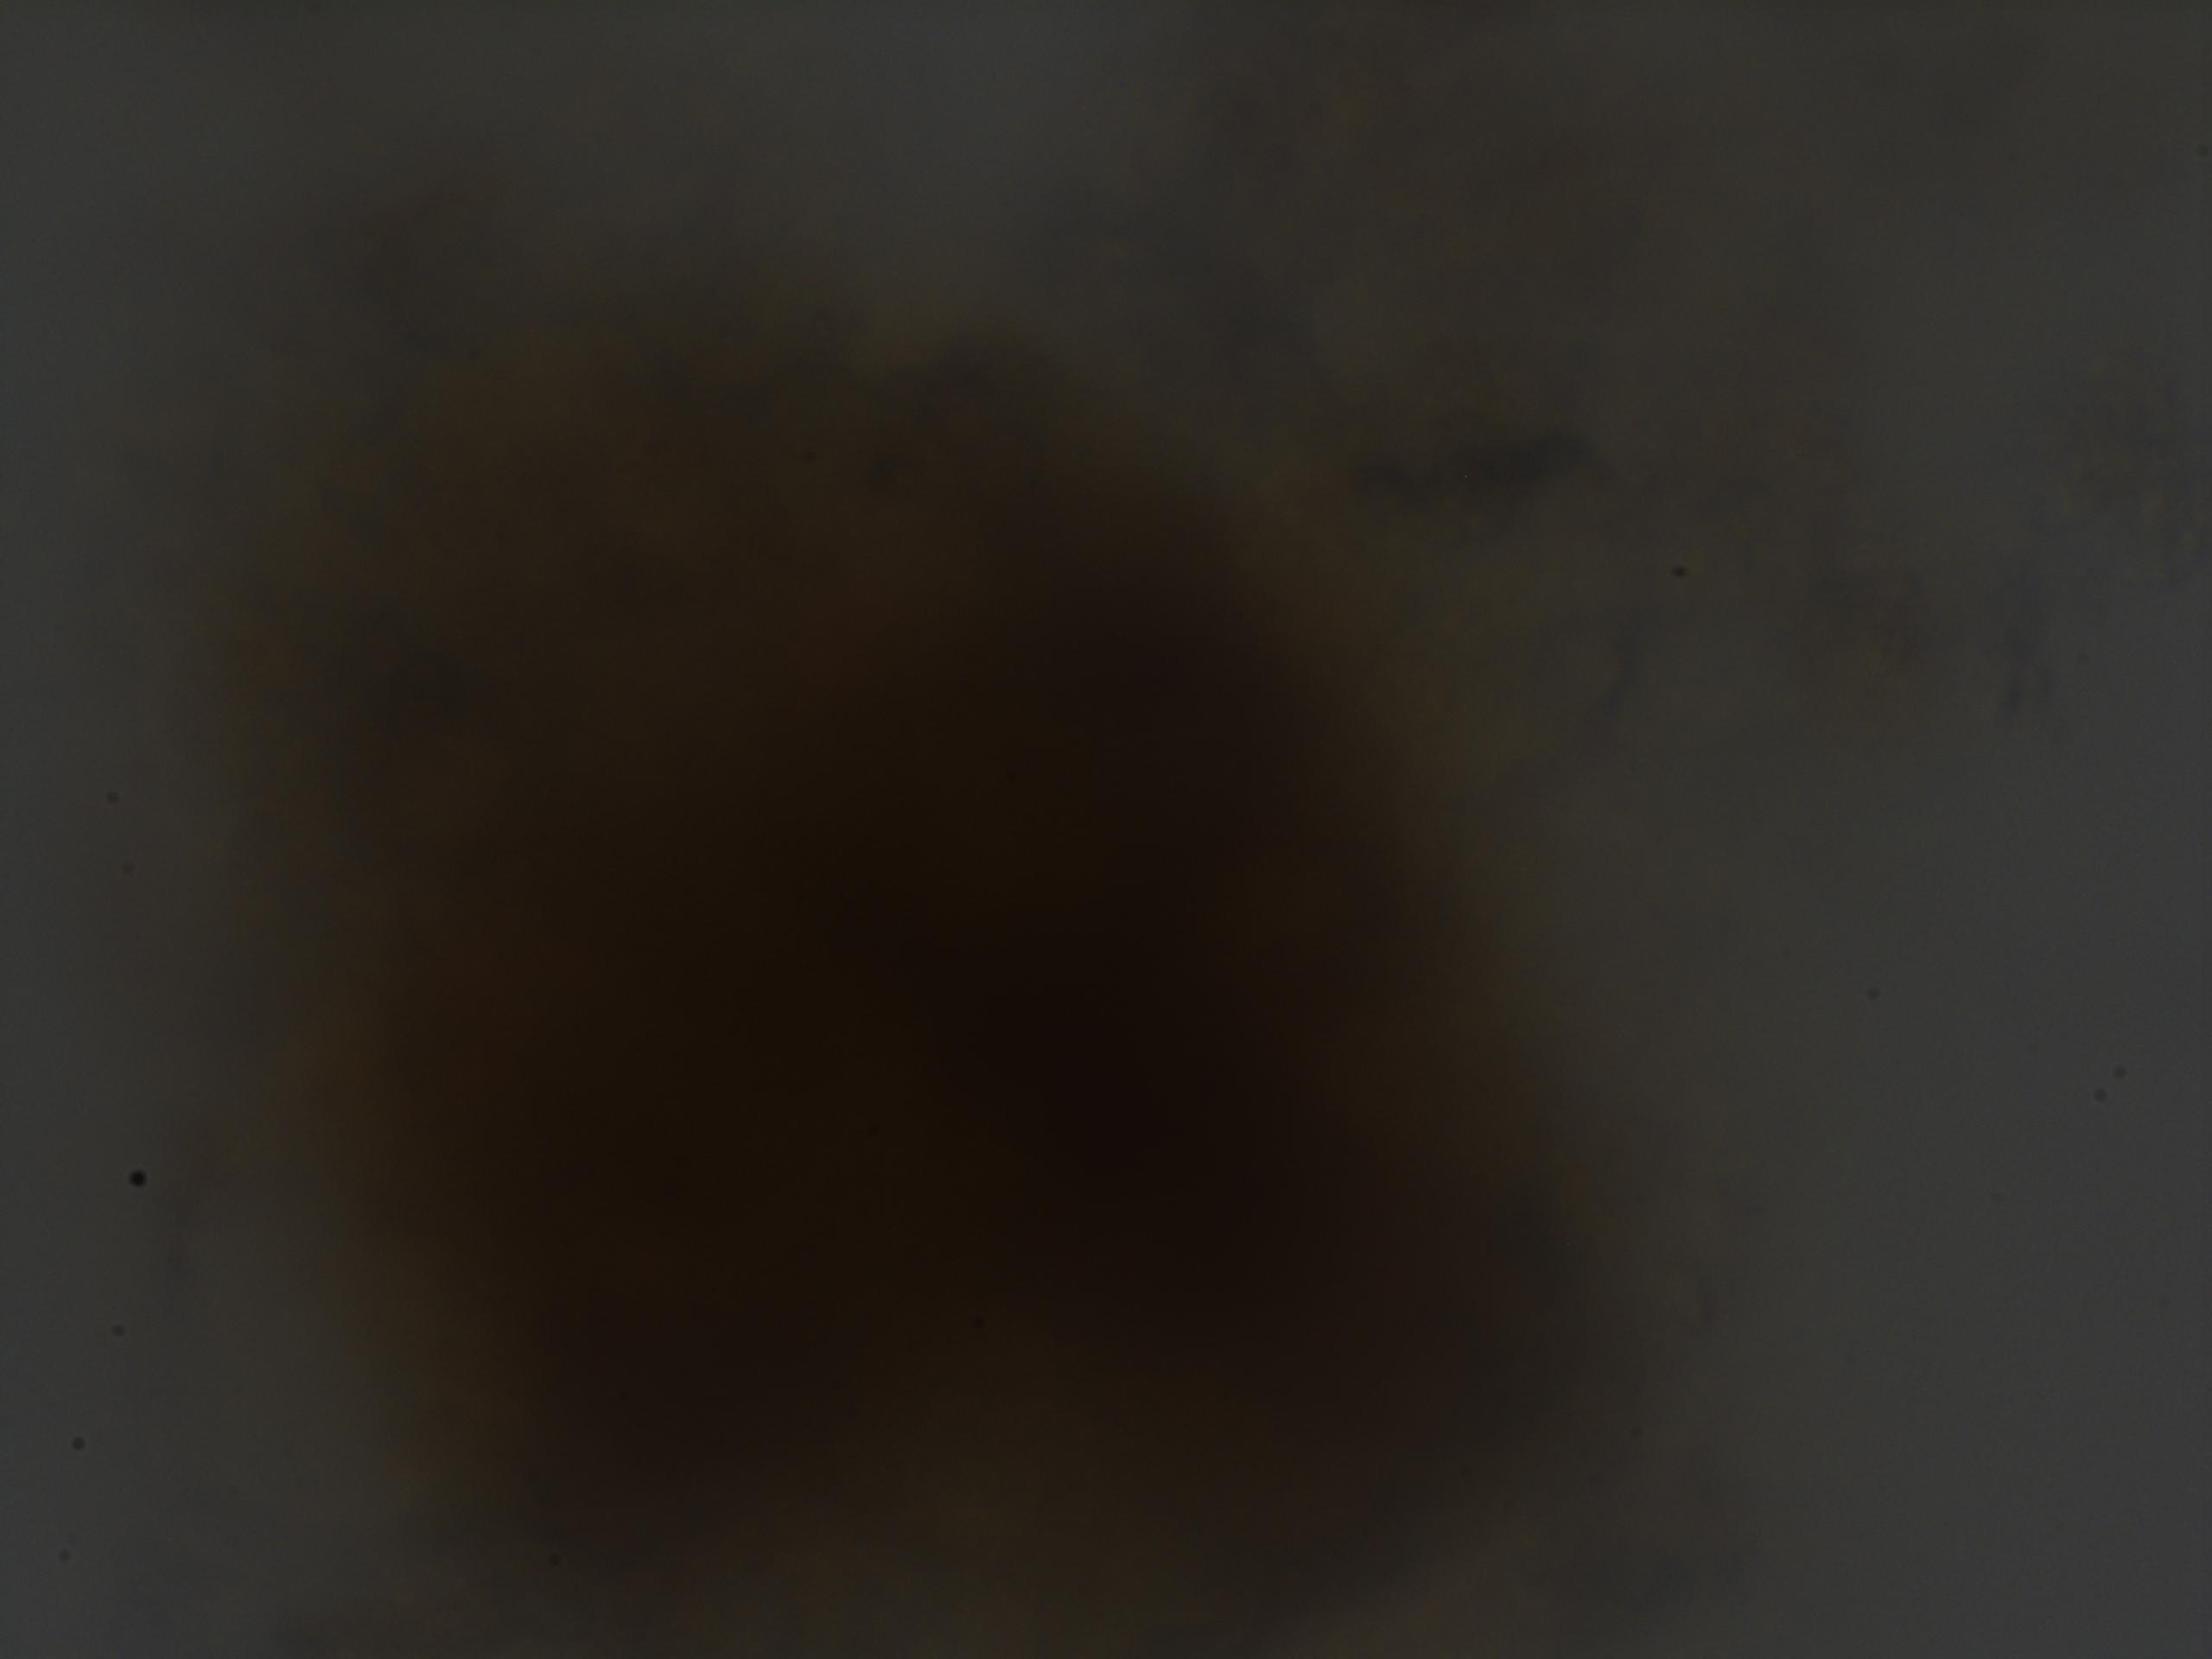spherical_floc: (219, 263, 1606, 1659)
